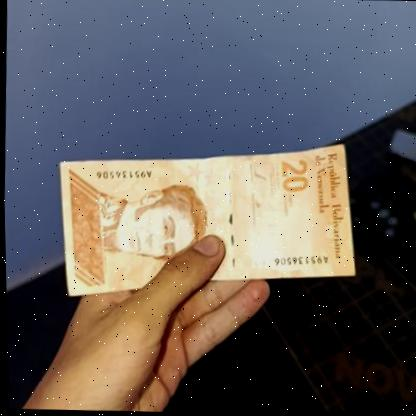twenty-front-vef: (52, 134, 359, 299)
